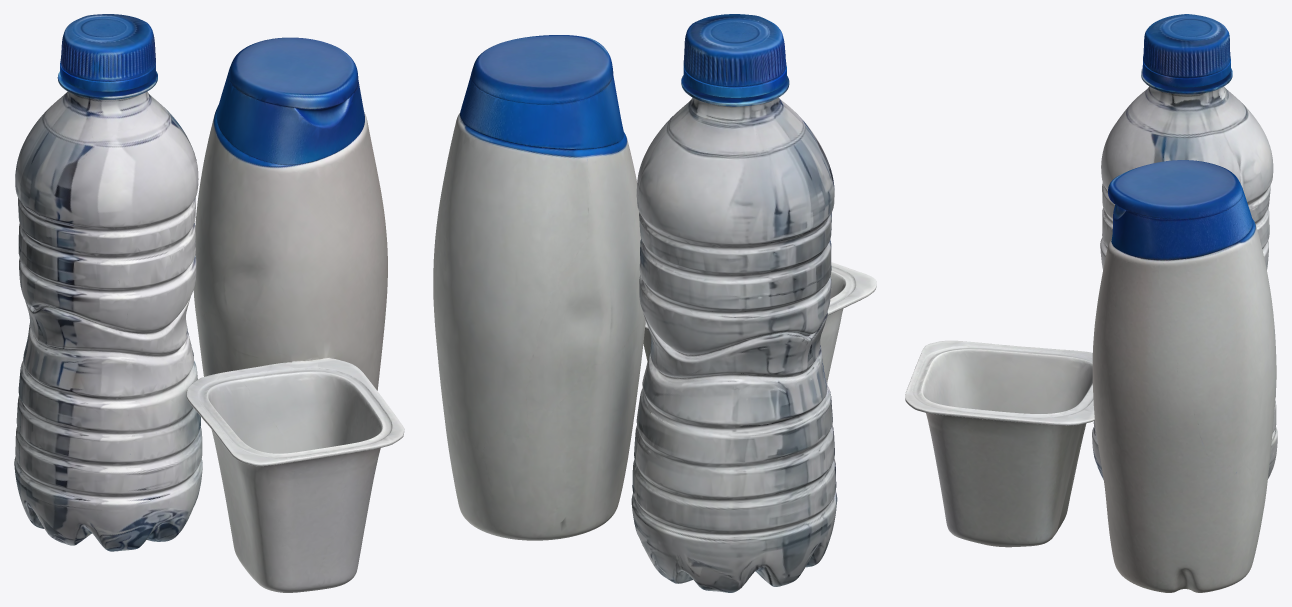
The model's file is plasticos.glb.
The picture shows the model from 3 angles, left to right: view 1: azimuth 30°, elevation 25°; view 2: azimuth 150°, elevation 25°; view 3: azimuth 270°, elevation 25°; orthographic projection. The views are drawn at different scales.
Parts seen in each view (by area): view 1: model; view 2: model; view 3: model.
Boxes of the visible parts, bbox=[...] form: model: bbox=[14, 14, 404, 592]; model: bbox=[433, 14, 876, 592]; model: bbox=[905, 14, 1277, 592].
Size of the model in its own units: 0.1474 by 0.2 by 0.1471.
1 material, 1 textured.
